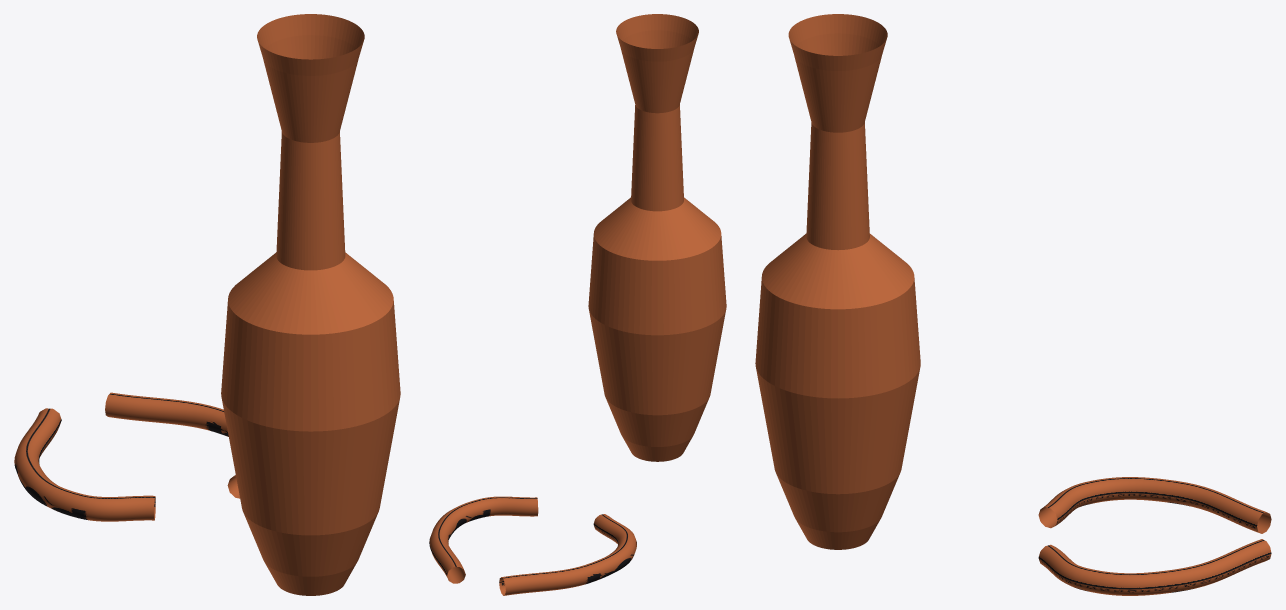
The model's file is greek-amphora.glb.
The picture shows the model from 3 angles, left to right: view 1: azimuth 30°, elevation 25°; view 2: azimuth 150°, elevation 25°; view 3: azimuth 270°, elevation 25°; orthographic projection. The views are drawn at different scales.
Visible parts, largest first — view 1: amphora, handle.001, handle; view 2: amphora, handle.001, handle; view 3: amphora, handle, handle.001.
Boxes of the visible parts, x1=… form: amphora: x1=221, y1=14, x2=400, y2=595; handle.001: x1=14, y1=408, x2=155, y2=521; handle: x1=105, y1=392, x2=239, y2=498; amphora: x1=588, y1=14, x2=726, y2=461; handle.001: x1=499, y1=514, x2=636, y2=595; handle: x1=429, y1=496, x2=538, y2=583; amphora: x1=755, y1=14, x2=920, y2=549; handle: x1=1038, y1=539, x2=1271, y2=595; handle.001: x1=1038, y1=477, x2=1271, y2=533.
Size of the model in its own units: 0.3941 by 0.8871 by 0.8114.
Materials: 1 (1 with a texture image).
